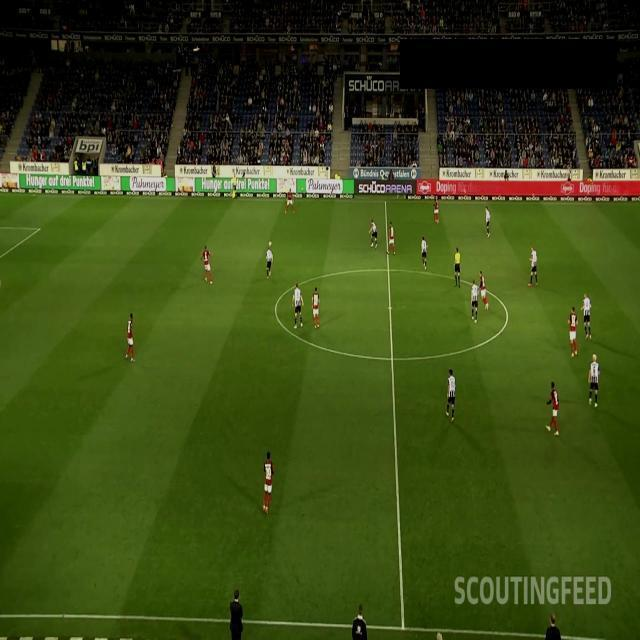ball: (268, 241, 272, 247)
team1: (545, 381, 560, 436), (262, 449, 274, 514), (567, 306, 579, 358), (124, 312, 136, 362), (200, 243, 213, 284), (479, 270, 489, 310), (312, 286, 321, 329), (284, 188, 296, 214), (388, 220, 396, 256), (433, 198, 439, 224)
team2: (588, 354, 600, 408), (580, 292, 592, 340), (446, 368, 456, 424), (292, 282, 304, 328), (528, 245, 538, 287), (471, 278, 478, 324), (368, 218, 378, 250), (266, 245, 273, 279), (421, 236, 428, 270), (485, 206, 491, 238)
